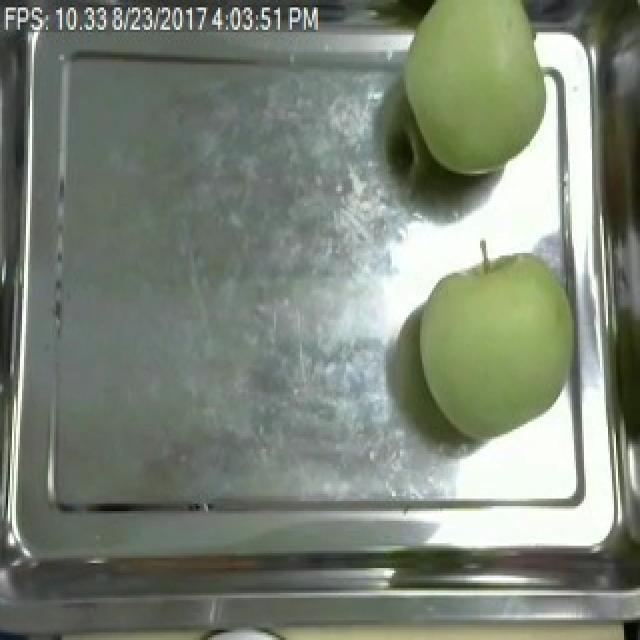50-_ripeness: (402, 248, 584, 458), (394, 0, 553, 188)
